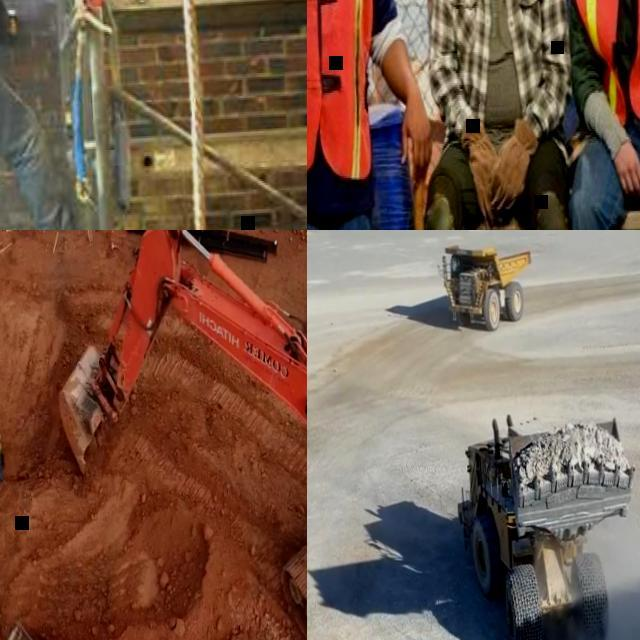vest: (307, 0, 386, 169), (562, 0, 640, 138)
